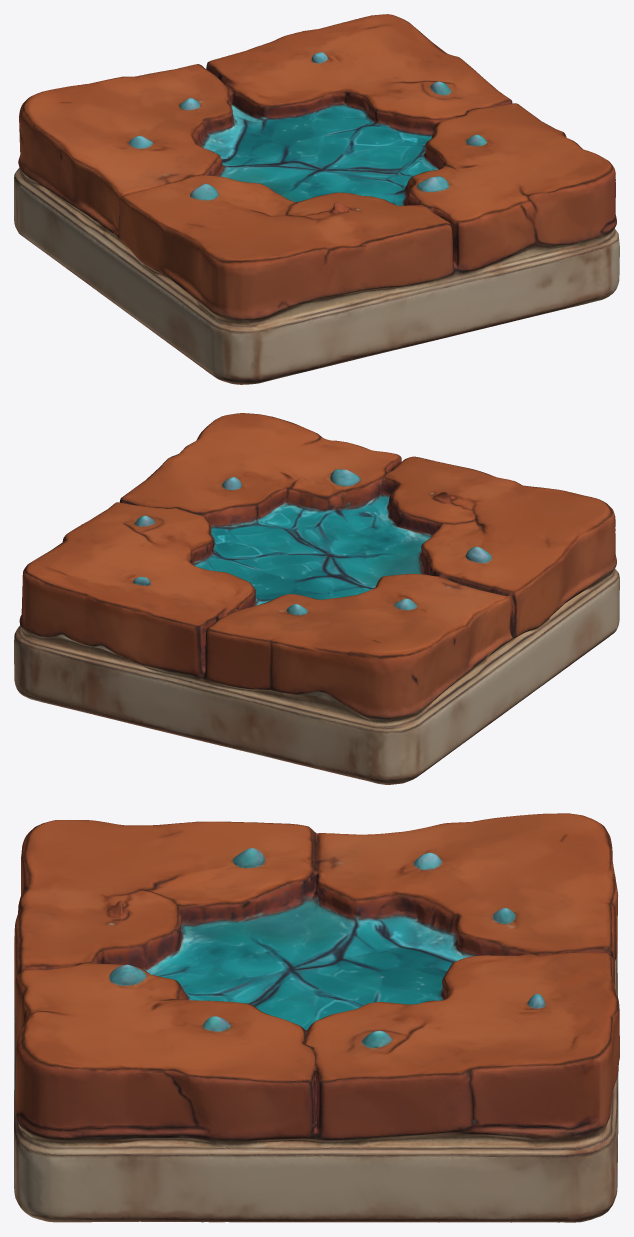
The model's file is grunt-led-2.glb.
3 views of the same model, one above another, from view 1: azimuth 30°, elevation 25°; view 2: azimuth 150°, elevation 25°; view 3: azimuth 270°, elevation 25° (orthographic). The views are drawn at different scales.
Parts seen in each view (by area): view 1: geometry_0; view 2: geometry_0; view 3: geometry_0.
Part boxes in pixels (left/top/right/bottom): geometry_0: left=14, top=14, right=619, bottom=384; geometry_0: left=14, top=413, right=619, bottom=784; geometry_0: left=14, top=813, right=619, bottom=1222.
Bounding box in the file's own units: 0.9974 × 0.3088 × 0.9965.
1 material, 1 textured.
